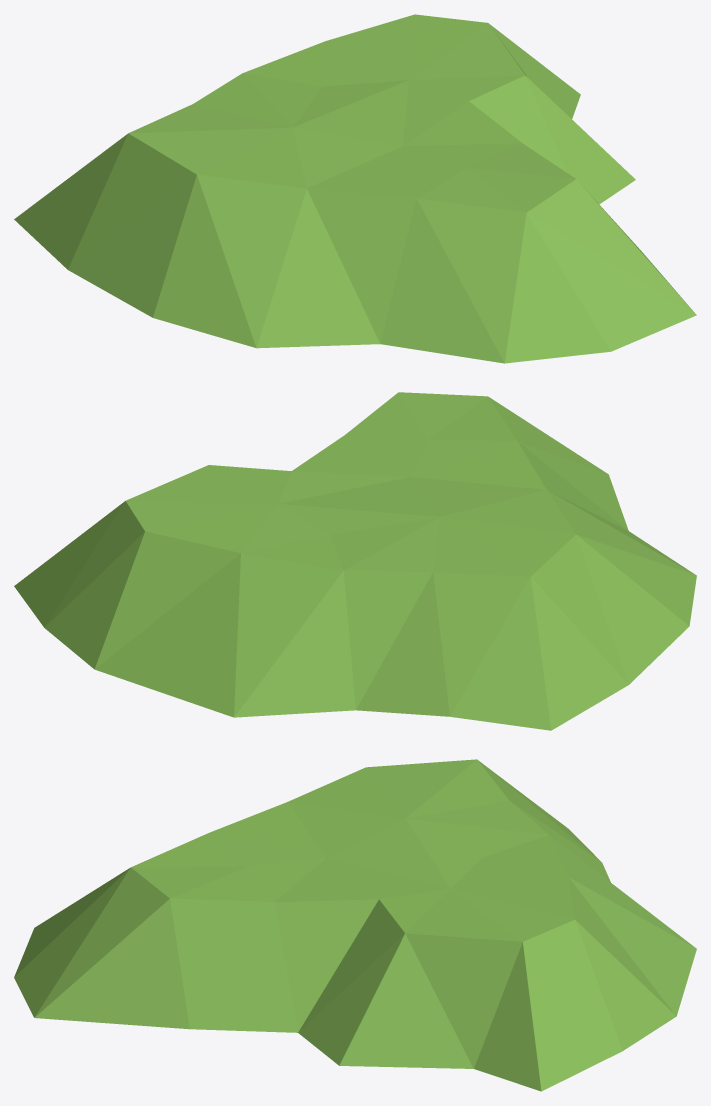
File: MT_Mountain_S_b_21.fbx
3 views of the same model, one above another, from view 1: azimuth 30°, elevation 25°; view 2: azimuth 150°, elevation 25°; view 3: azimuth 270°, elevation 25° (orthographic). The views are drawn at different scales.
Parts seen in each view (by area): view 1: MT_Mountain_S_b_21; view 2: MT_Mountain_S_b_21; view 3: MT_Mountain_S_b_21.
Part boxes in pixels (x1,y1,x2,y2): MT_Mountain_S_b_21: [14, 14, 696, 363]; MT_Mountain_S_b_21: [14, 392, 696, 730]; MT_Mountain_S_b_21: [14, 759, 696, 1091].
Bounding box in the file's own units: 1900 × 340 × 2042.
